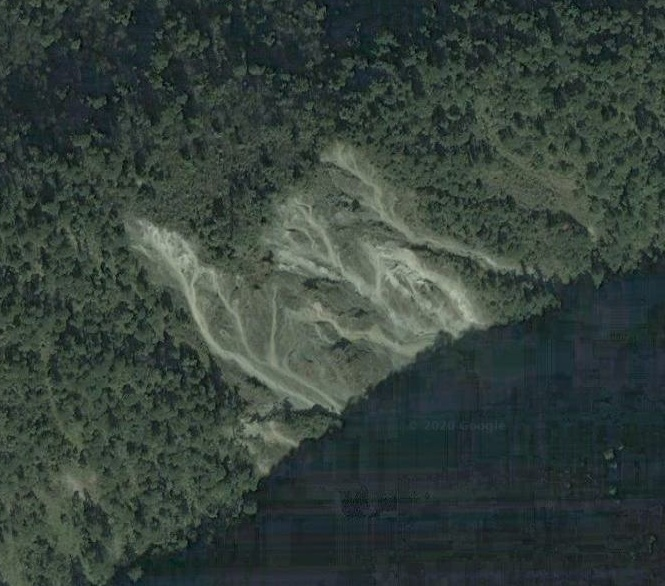slope: (122, 136, 500, 474)
